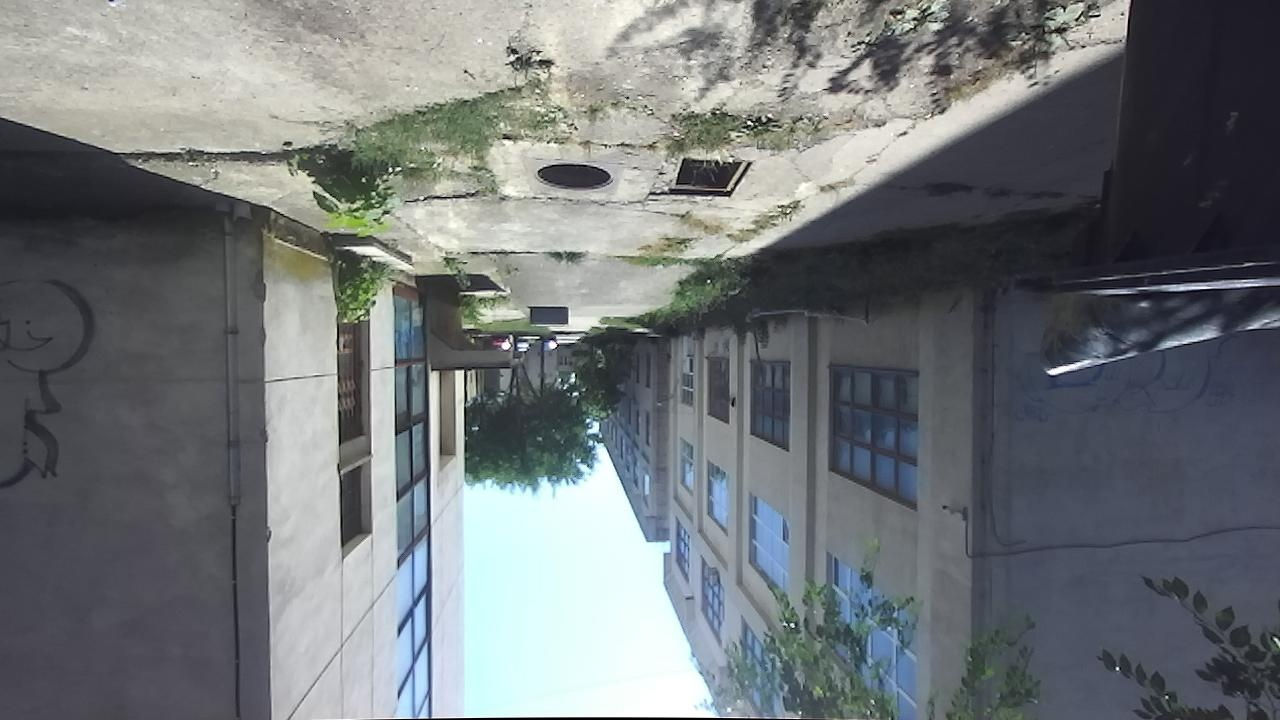drain: (665, 153, 754, 204), (531, 156, 616, 198)
